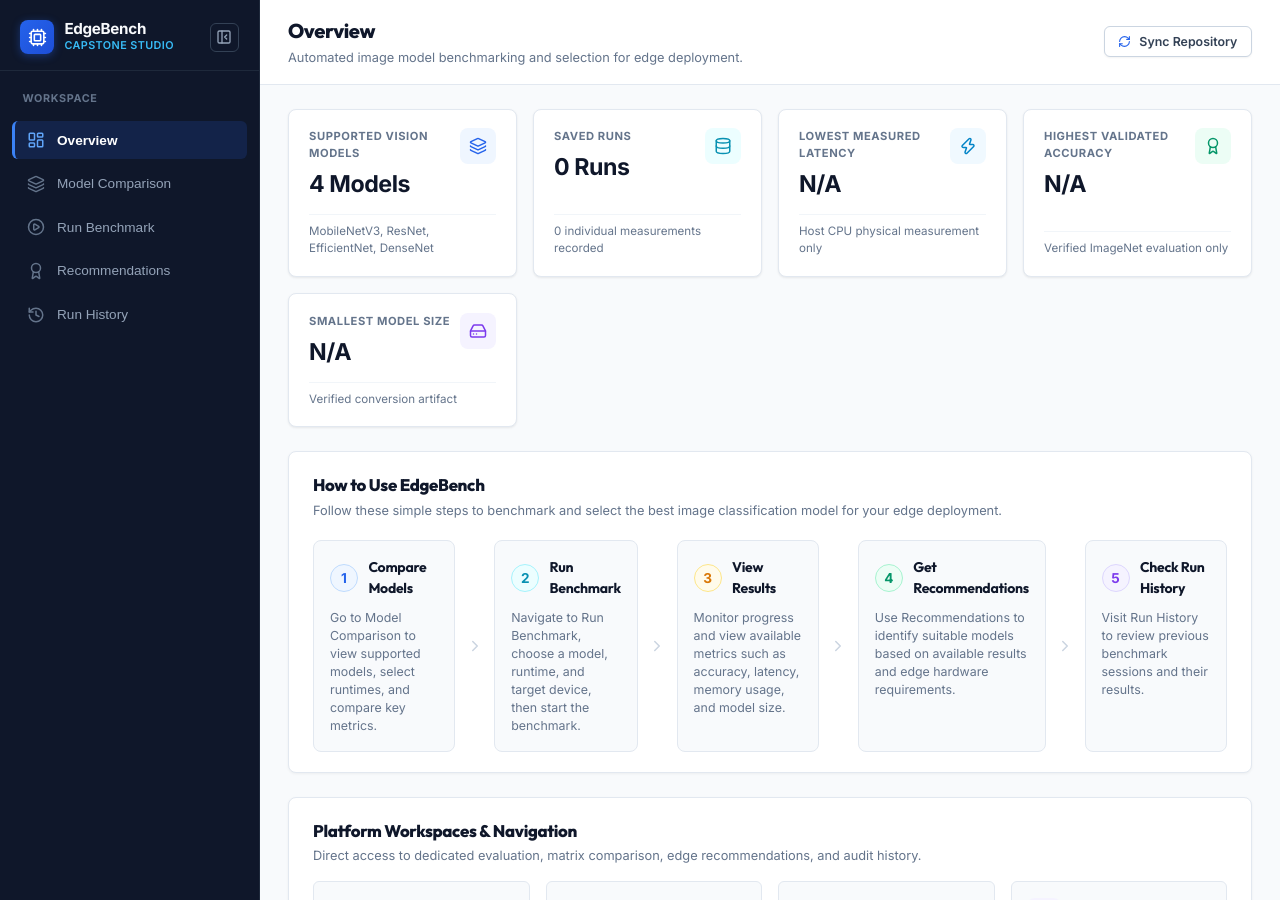
Test: App Integration - EdgeBench Layout & Overview Dashboard › loads supported Edge Impulse targets on startup and passes them to BenchmarkRunner
Expected: the text "Supported Vision Models" is shown, 309,129 -> 428,160
Note: Switch to benchmark tab
Click the button "Run Benchmark": (130, 227) 12,208 -> 247,246
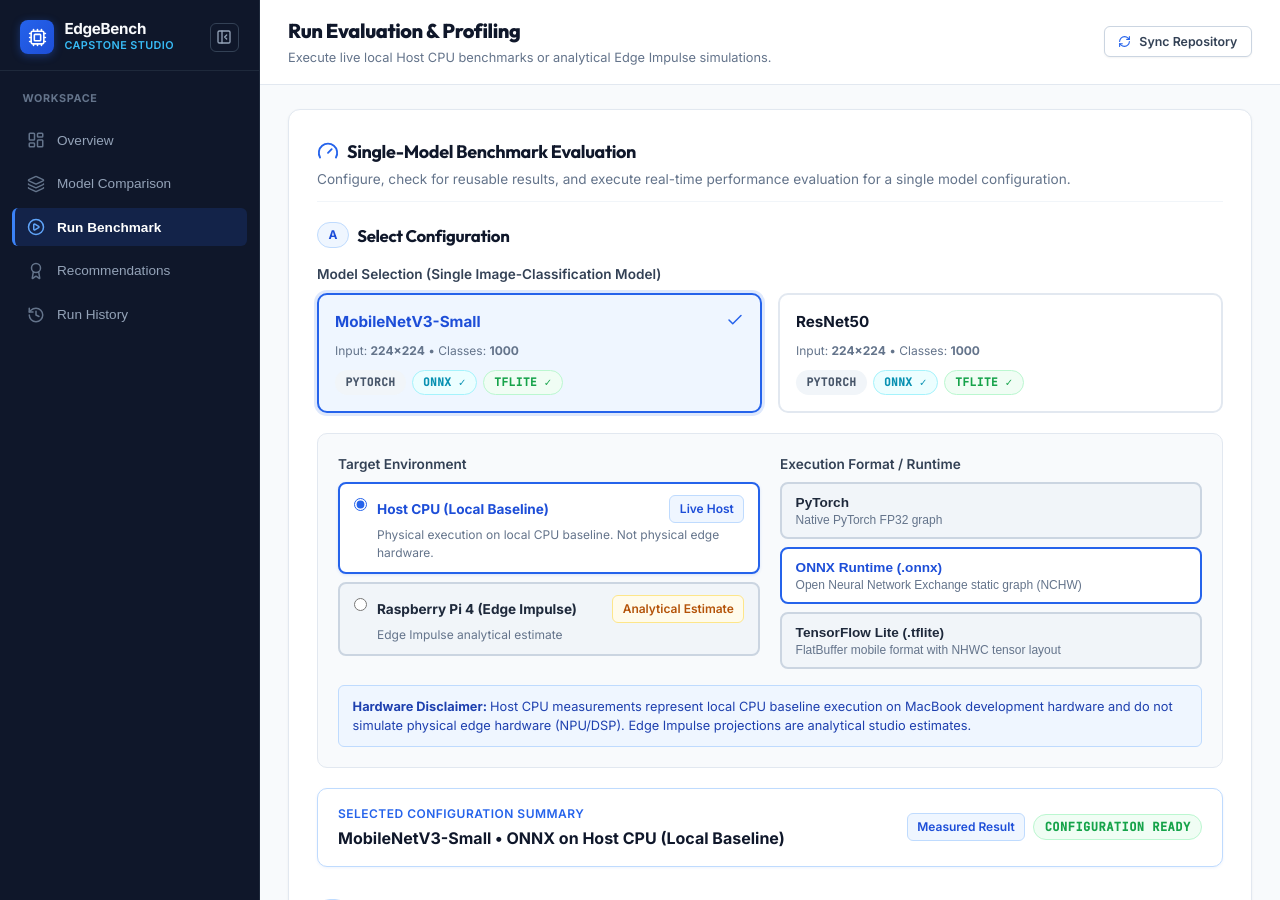
Expected: the text "Raspberry Pi 4 (Edge Impulse)" is shown, 377,599 -> 577,619
Expected: the text "Host CPU (Local Baseline)" is shown, 377,499 -> 549,519
